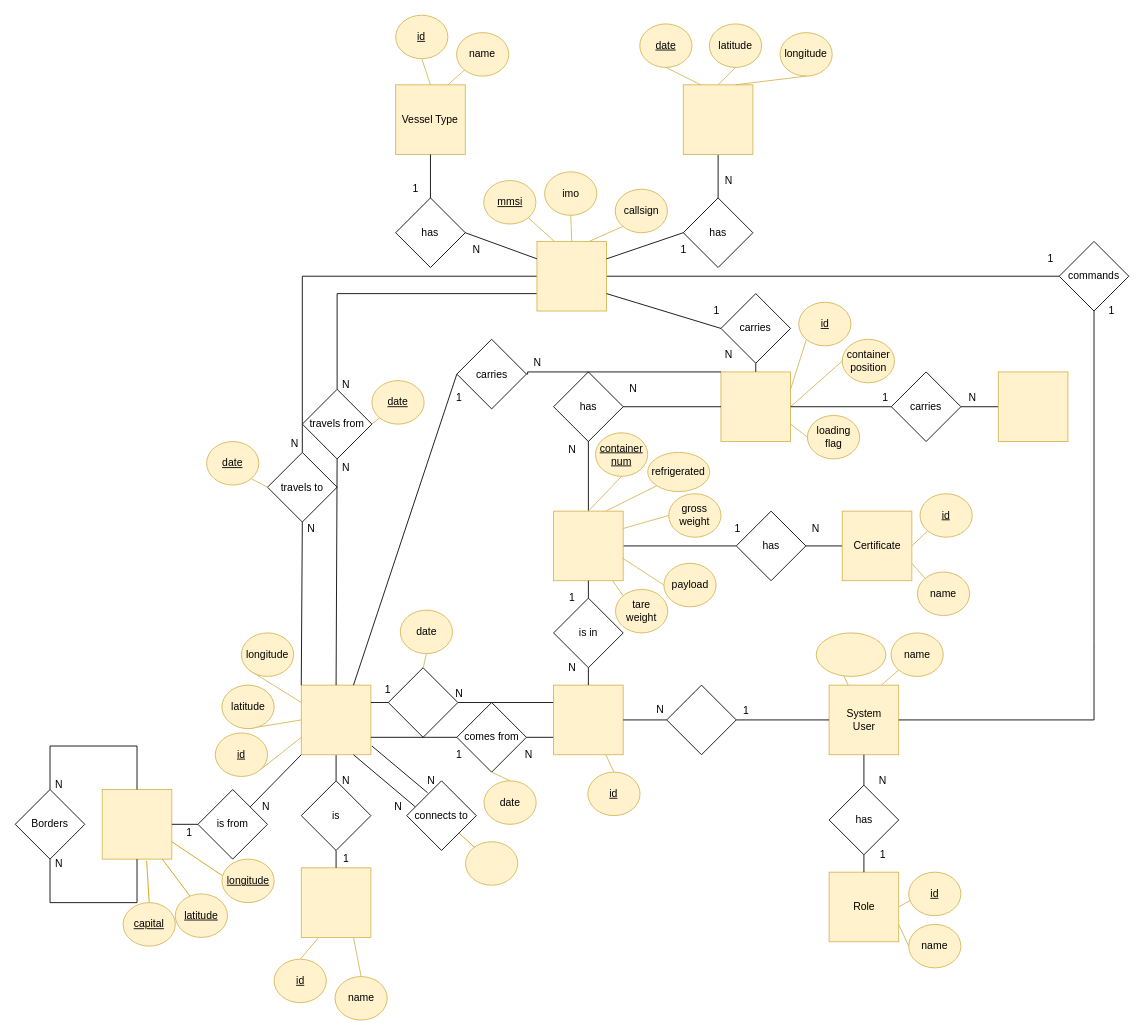
The diagram is 1144 pixels wide and 1035 high, and some of its shapes have lost their labels. Here are the shapes that lost their labels. From the top down, the centre of each, then its label:
the point at 717,119: Dynamic Data
the point at 571,276: Ship
the point at 755,406: Cargo Manifest
the point at 1032,406: Truck
the point at 588,545: Container
the point at 850,654: registration code
the point at 335,719: Storage
the point at 422,702: goes to
the point at 588,719: Shipment
the point at 701,719: requests
the point at 136,824: Country
the point at 491,863: distance
the point at 335,902: Storage Type
